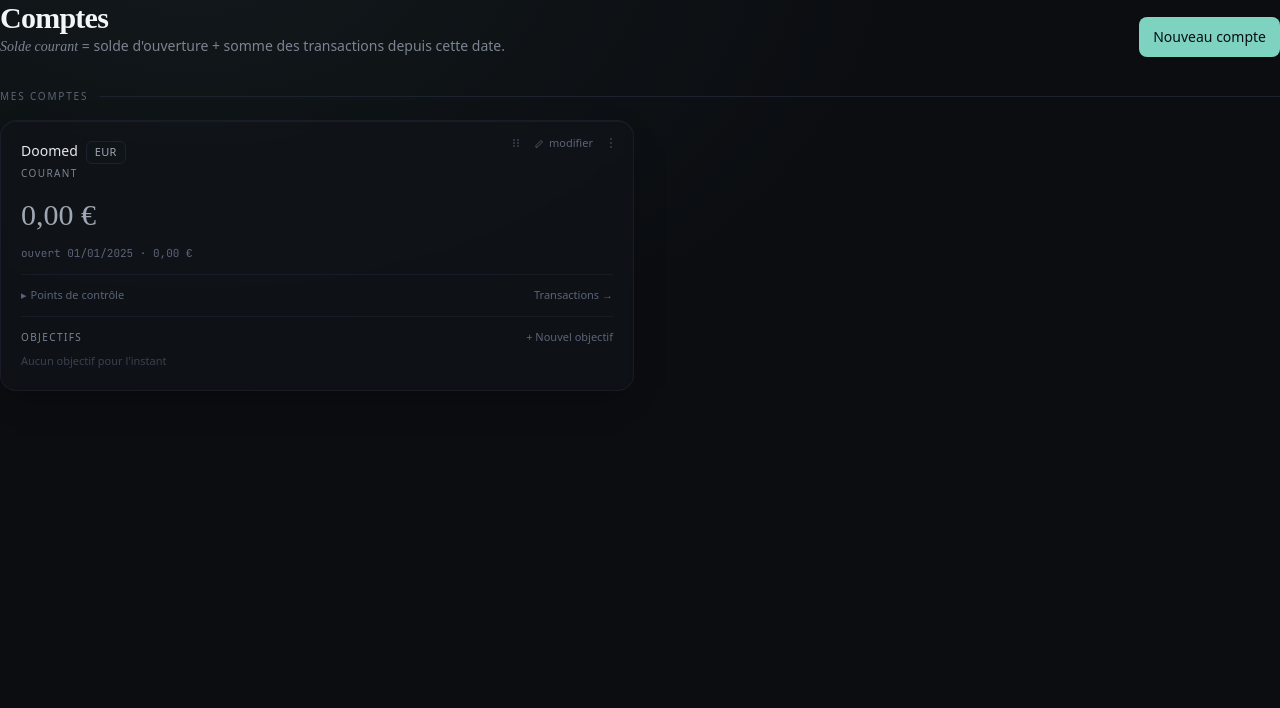
it: Accounts page (characterization) › confirms then deletes an account
Note: The delete trigger only appears inside the per-card edit mode.
Click the button "modifier": (564, 143) [534,135,593,151]
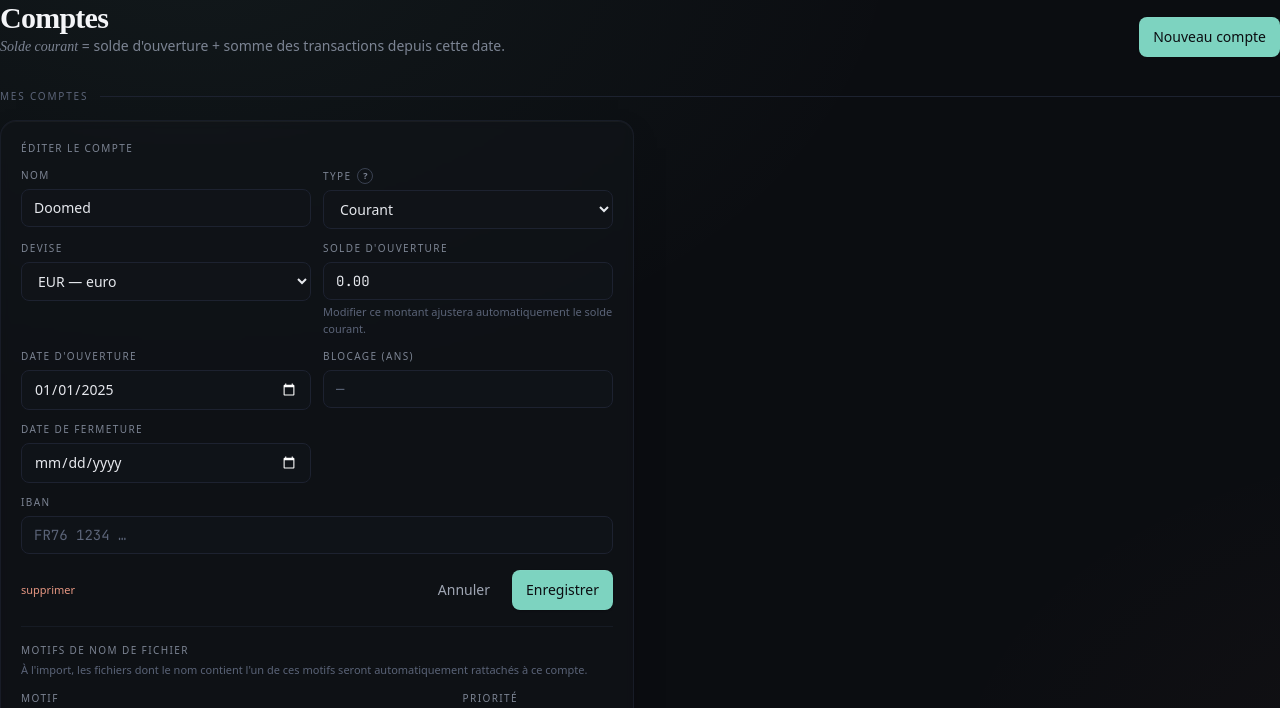
Click the button "supprimer": (48, 590) [21,582,75,598]
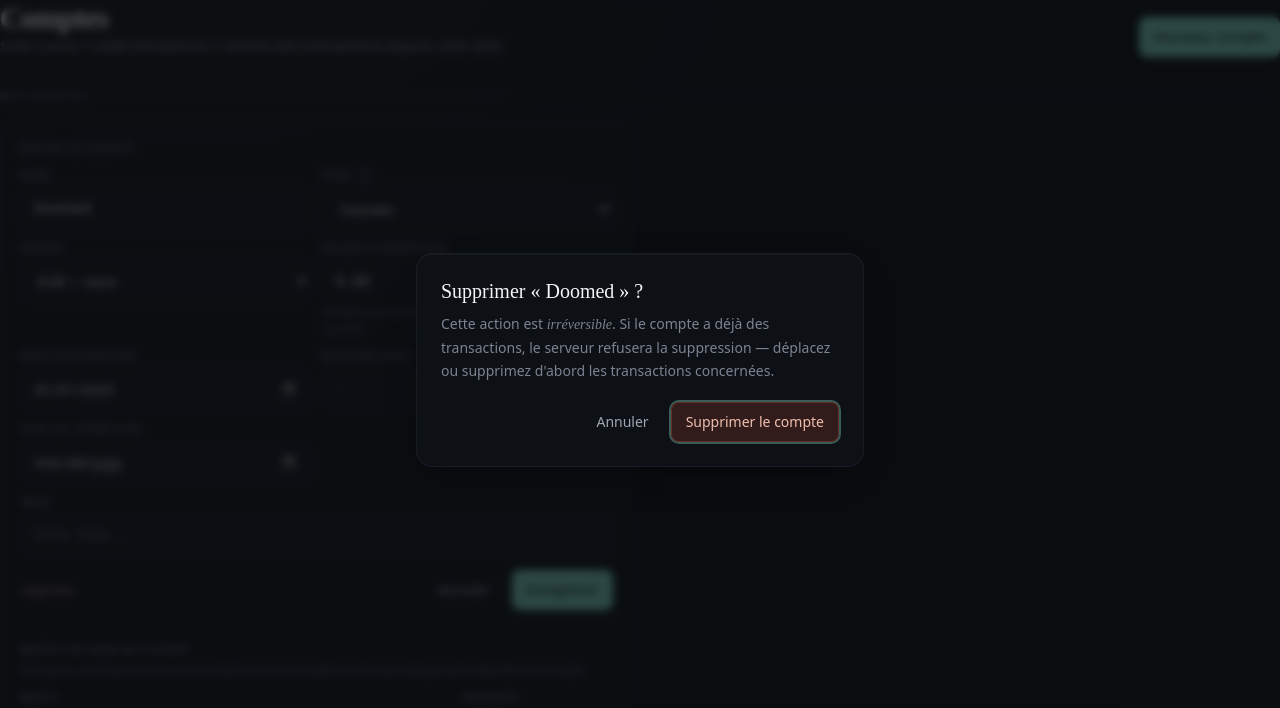
Note: ConfirmDialog appears — click the destructive confirm button.
Click the button "Supprimer le compte": (755, 422) [671,402,839,442]
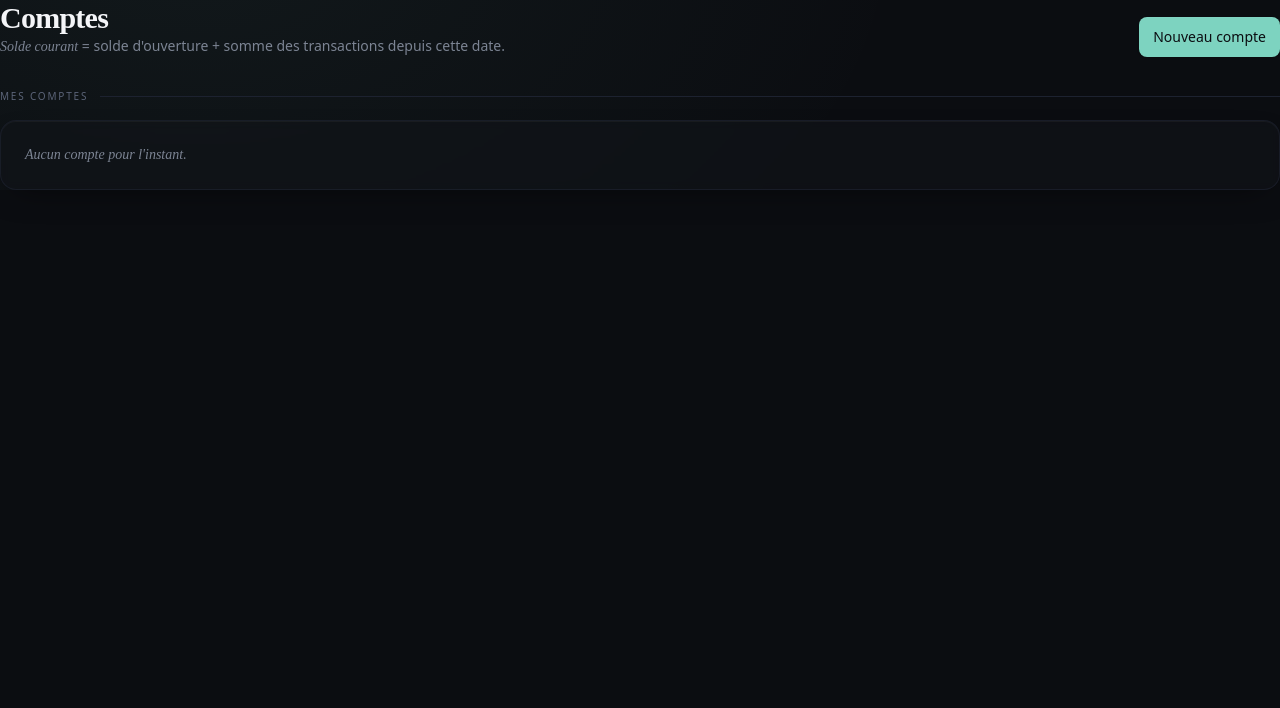
Result: the text "Doomed" is gone
